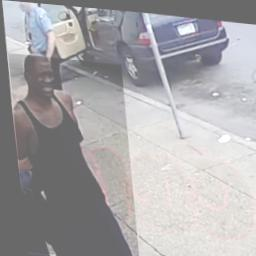nonspitting: (4, 53, 140, 255)
